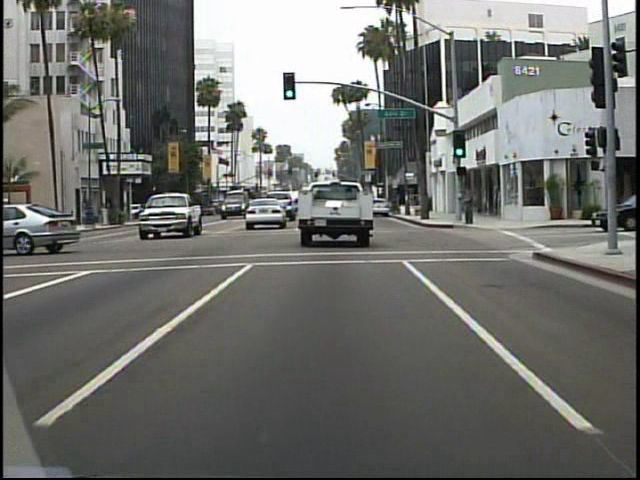person: (460, 181, 478, 228)
